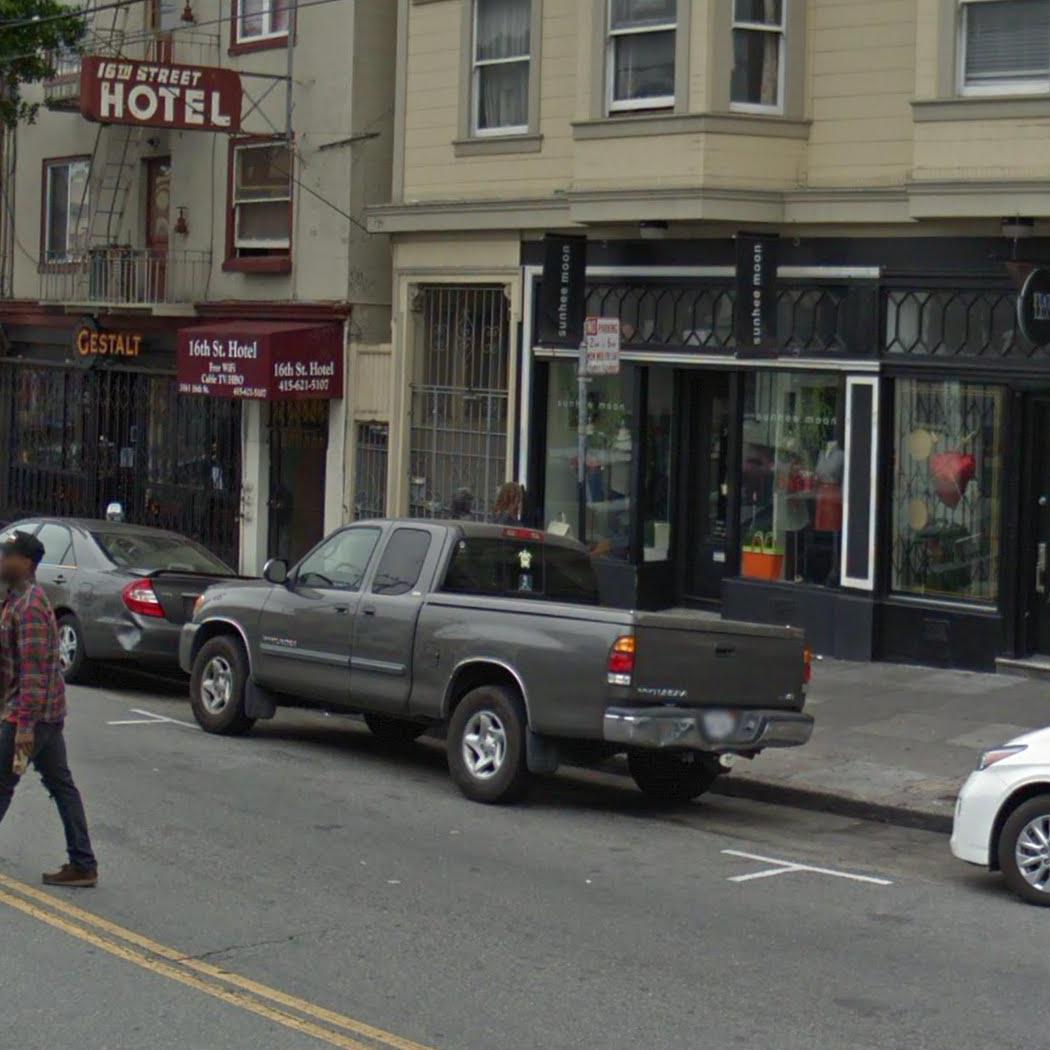No Parking: (581, 314, 623, 378)
